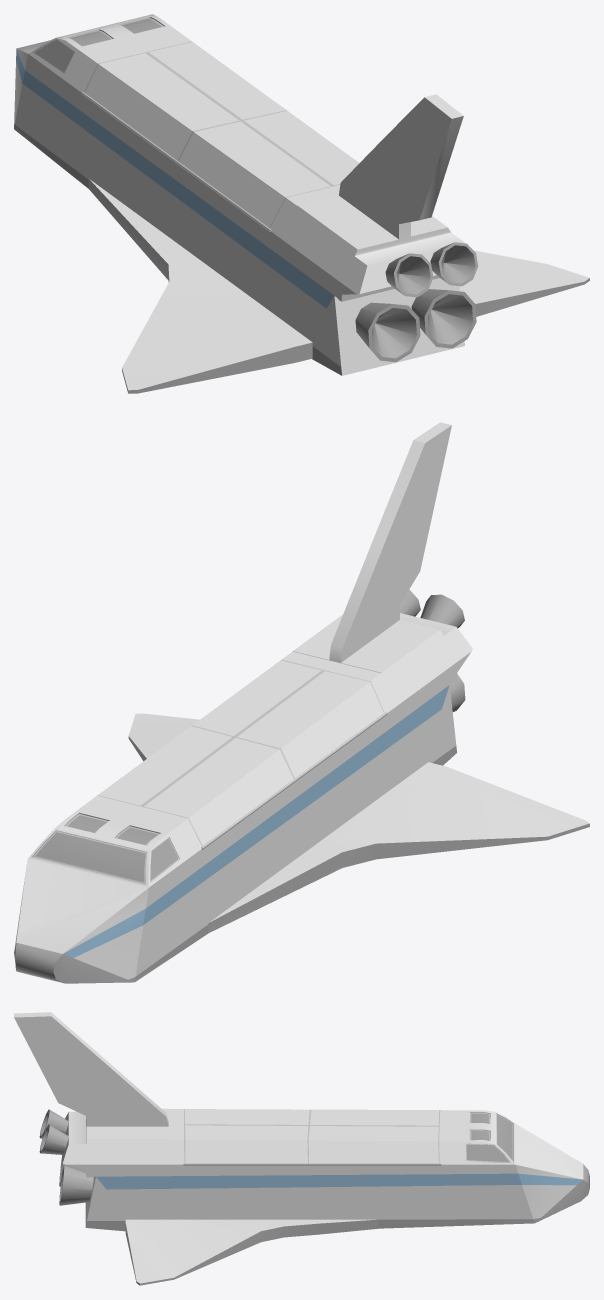
The model's file is shuttle_2.fbx.
3 views of the same model, one above another, from view 1: azimuth 30°, elevation 25°; view 2: azimuth 150°, elevation 25°; view 3: azimuth 270°, elevation 25° (orthographic). The views are drawn at different scales.
Parts seen in each view (by area): view 1: Null_3; view 2: Null_3; view 3: Null_3.
Part boxes in pixels (x1,y1,x2,y2): Null_3: [14, 14, 589, 393]; Null_3: [14, 422, 589, 983]; Null_3: [14, 1012, 589, 1285].
Size of the model in its own units: 1503 by 902 by 2370.
